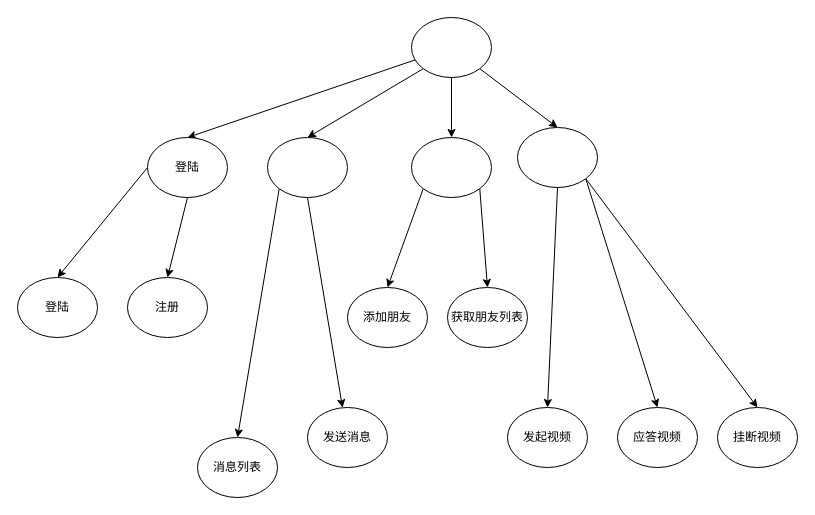
Image size: 815x515. Some labels were removed from this diagram. The shapes that lost their labels are listed below. From the top down, each one's centre as x and y in pixels, then its label:
At [451,47]: "简易实时聊天系统".
At [307,167]: "聊天".
At [451,167]: "朋友".
At [557,157]: "视频".
